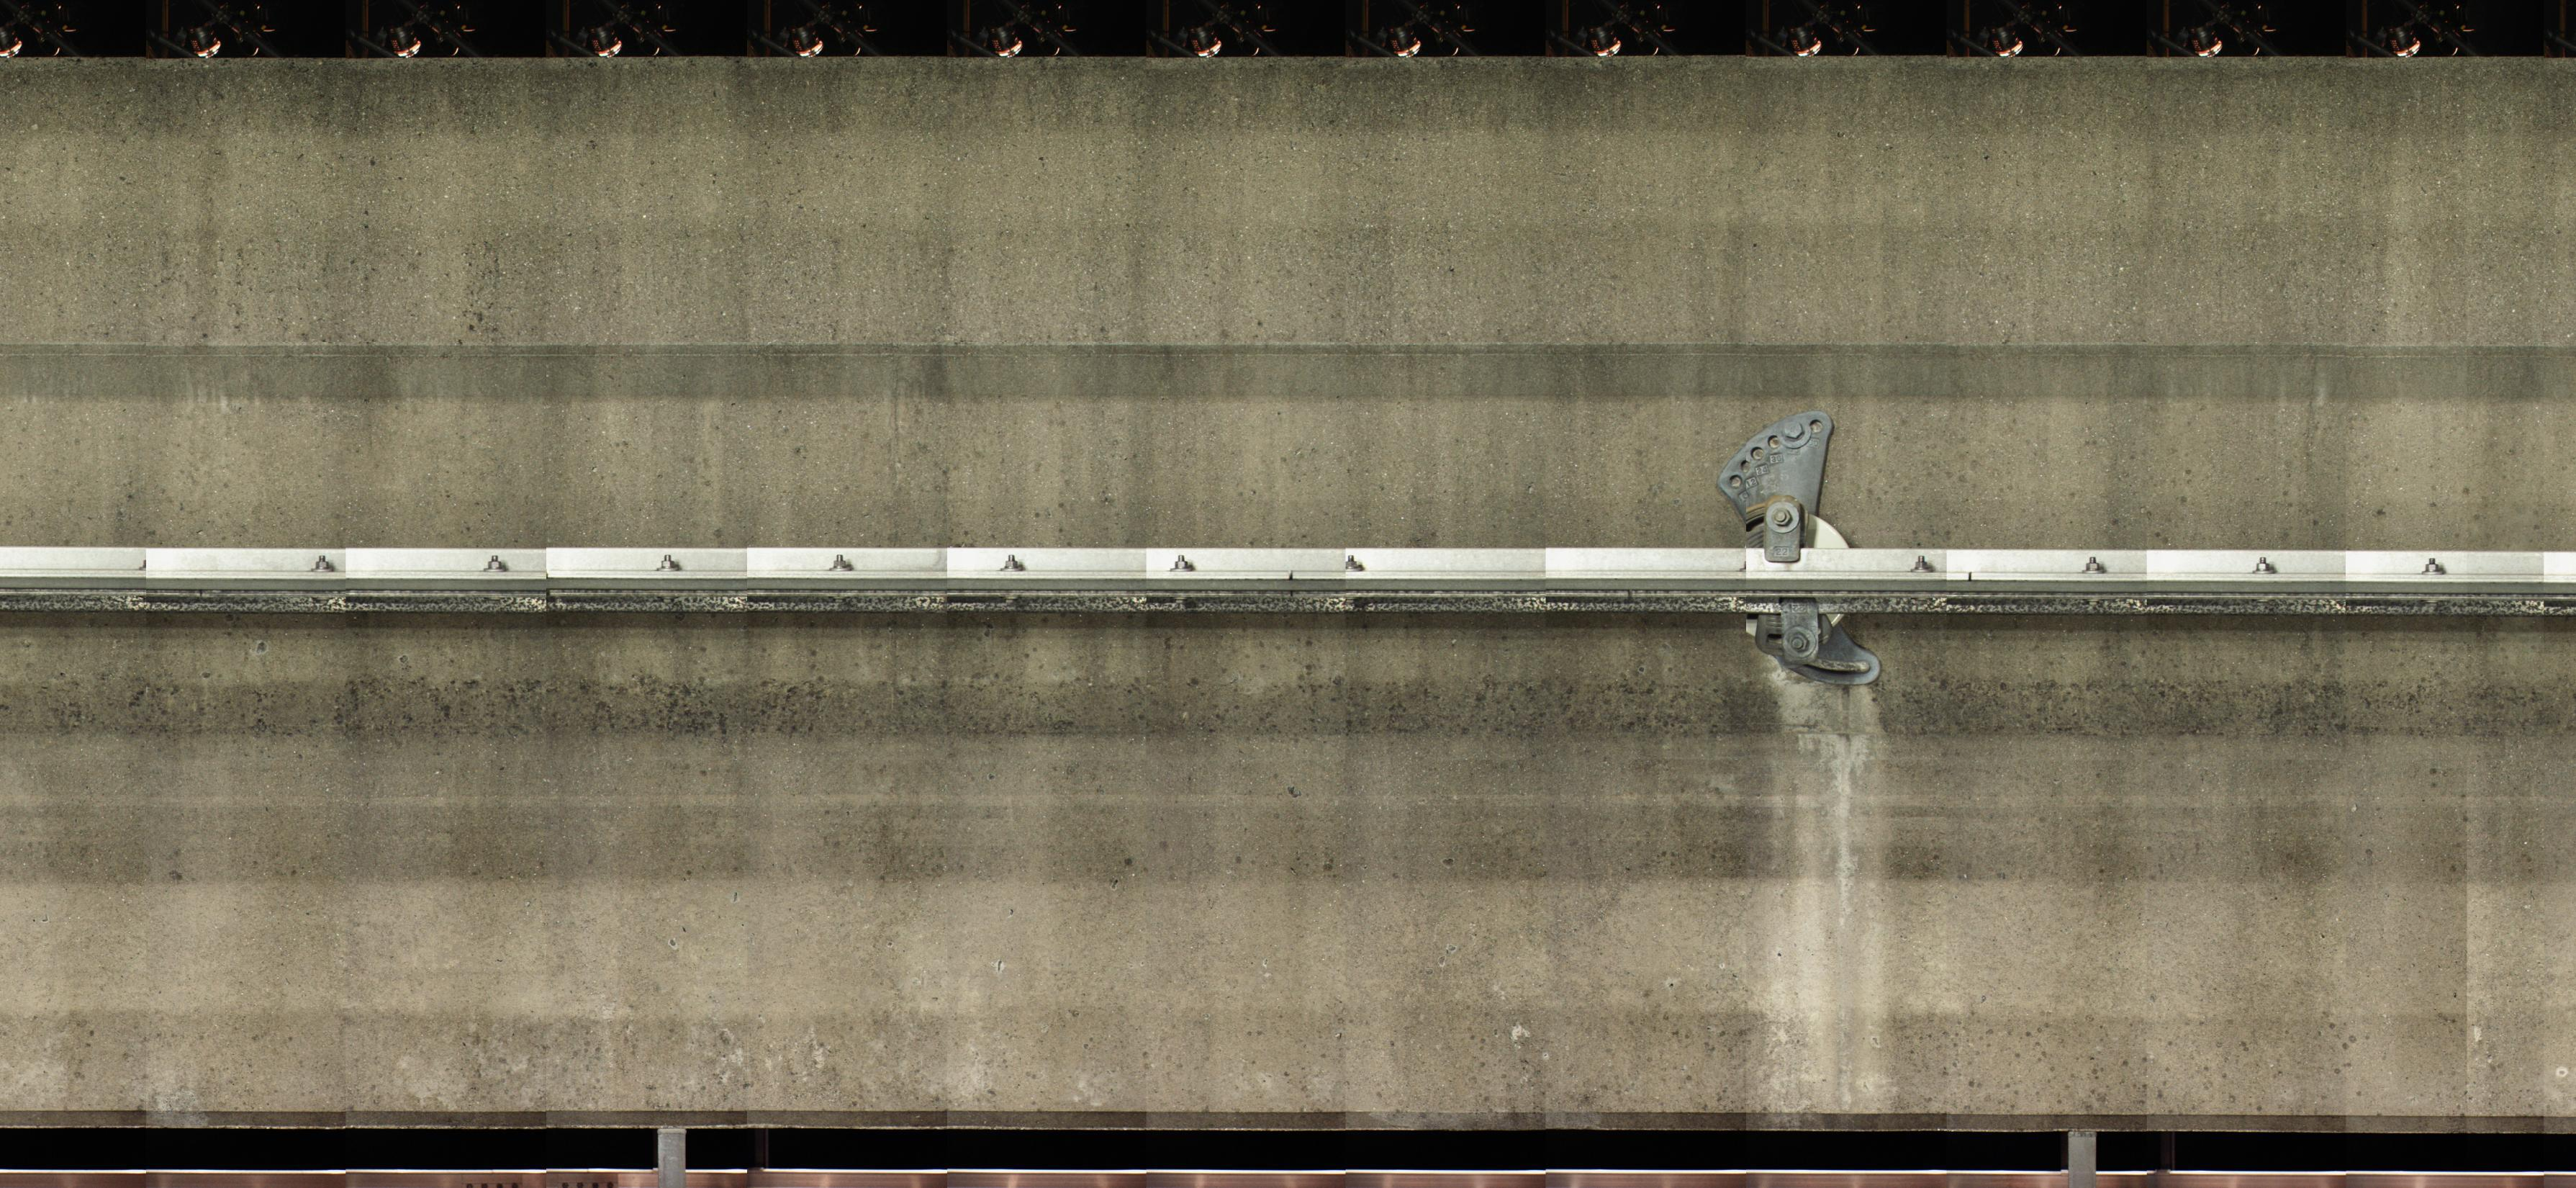concrete: (3, 611, 2569, 1127), (3, 58, 2569, 546)
